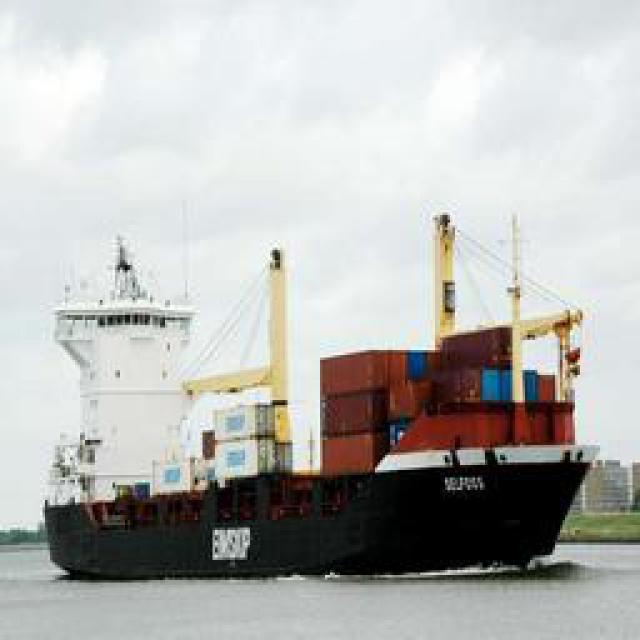Ship: (43, 182, 608, 580)
